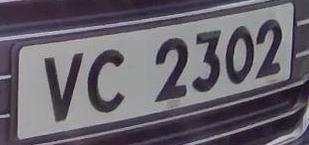0: (224, 16, 257, 93)
2: (149, 27, 192, 111), (253, 13, 287, 85)
3: (191, 22, 227, 100)
C: (83, 41, 133, 120)
V: (36, 45, 90, 126)
